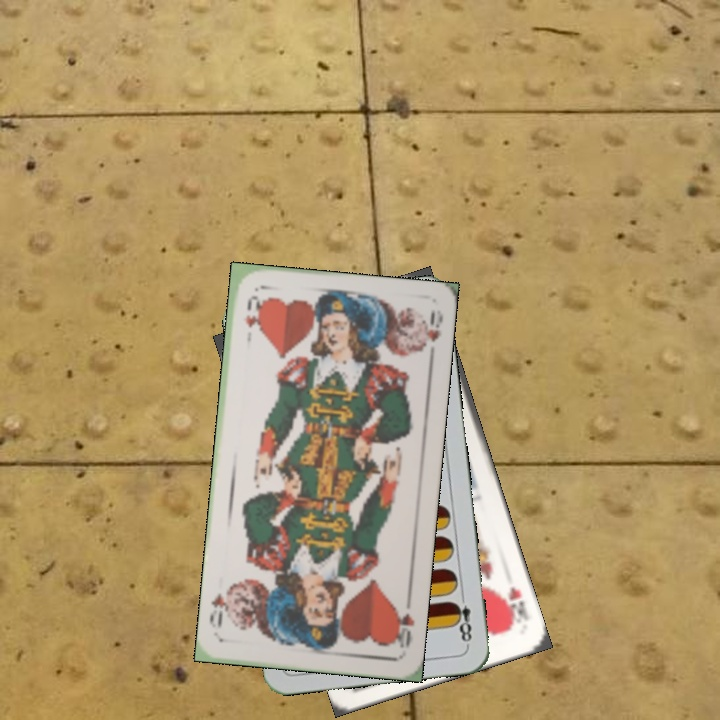E8: (449, 589, 474, 648)
HK: (500, 583, 532, 627)
HO: (389, 595, 417, 651), (240, 291, 262, 345)
